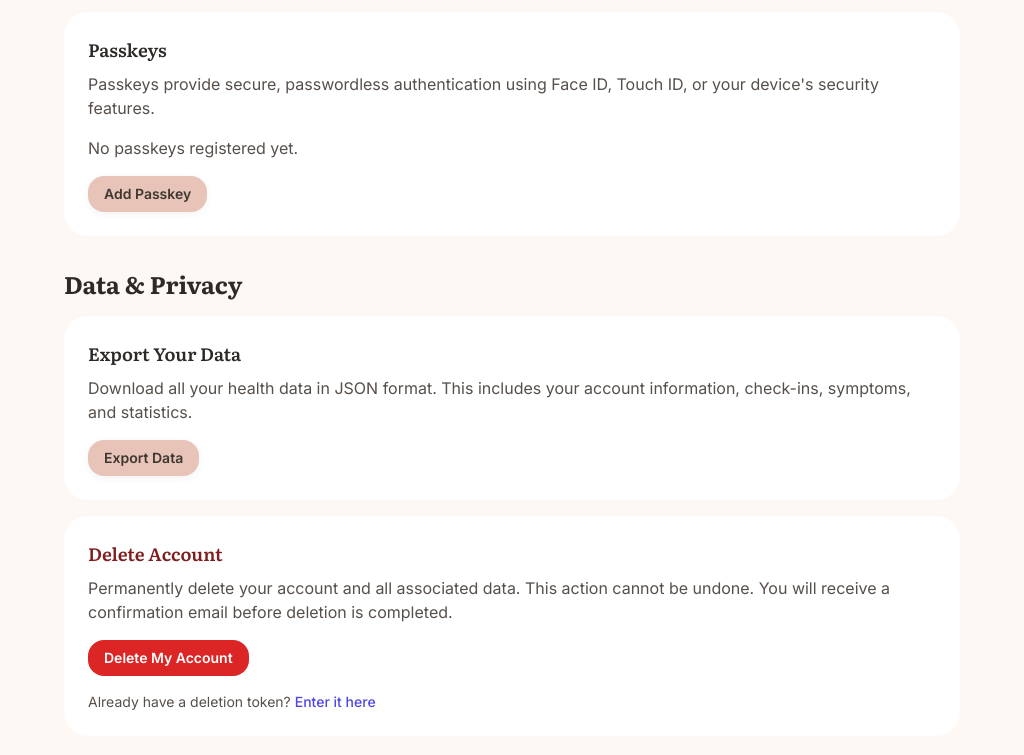
it: SettingsPage › Export Data › should show error message if export fails
The width and height of the screenshot is (1024, 755).
(page scrolled)
Click the button "Export Data". click: (144, 458)
box: 88,440 -> 199,476
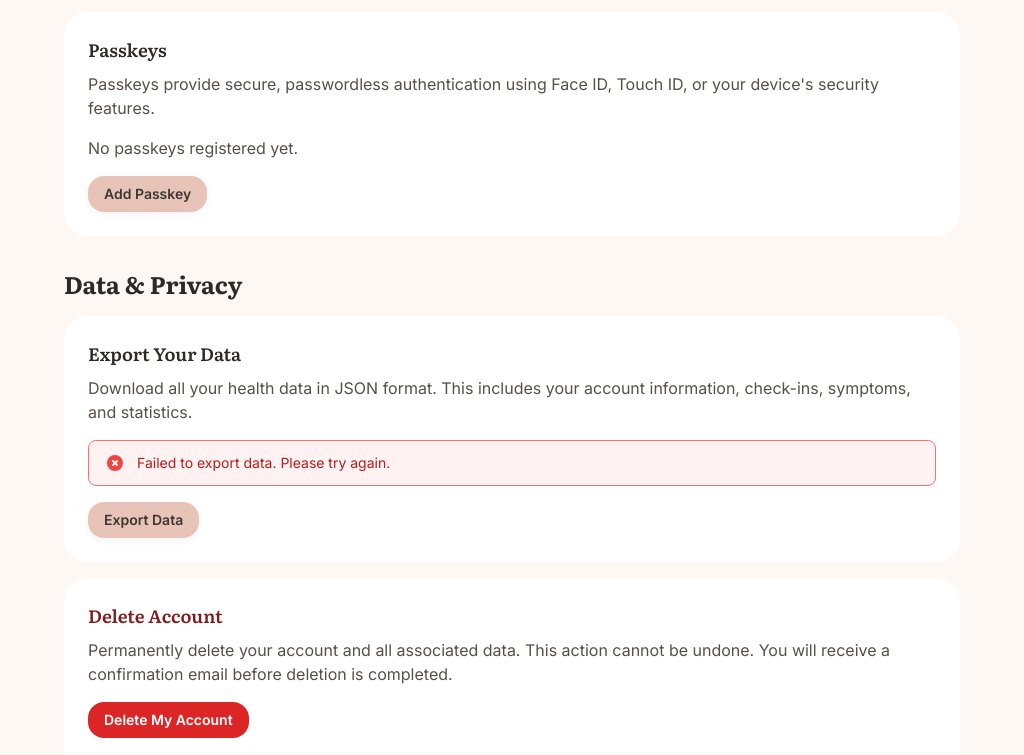
Result: the text "Failed to export data. Please try again." is shown at 137,454 -> 390,471
